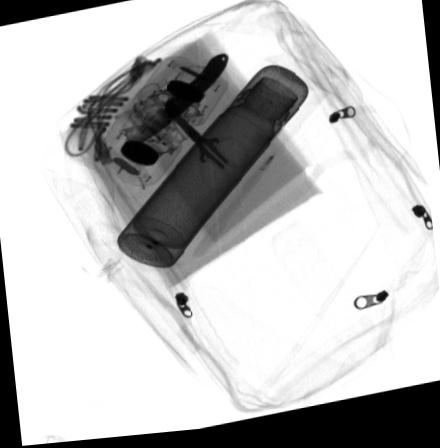Knife: (126, 58, 228, 154)
Scissors: (161, 103, 251, 196)
